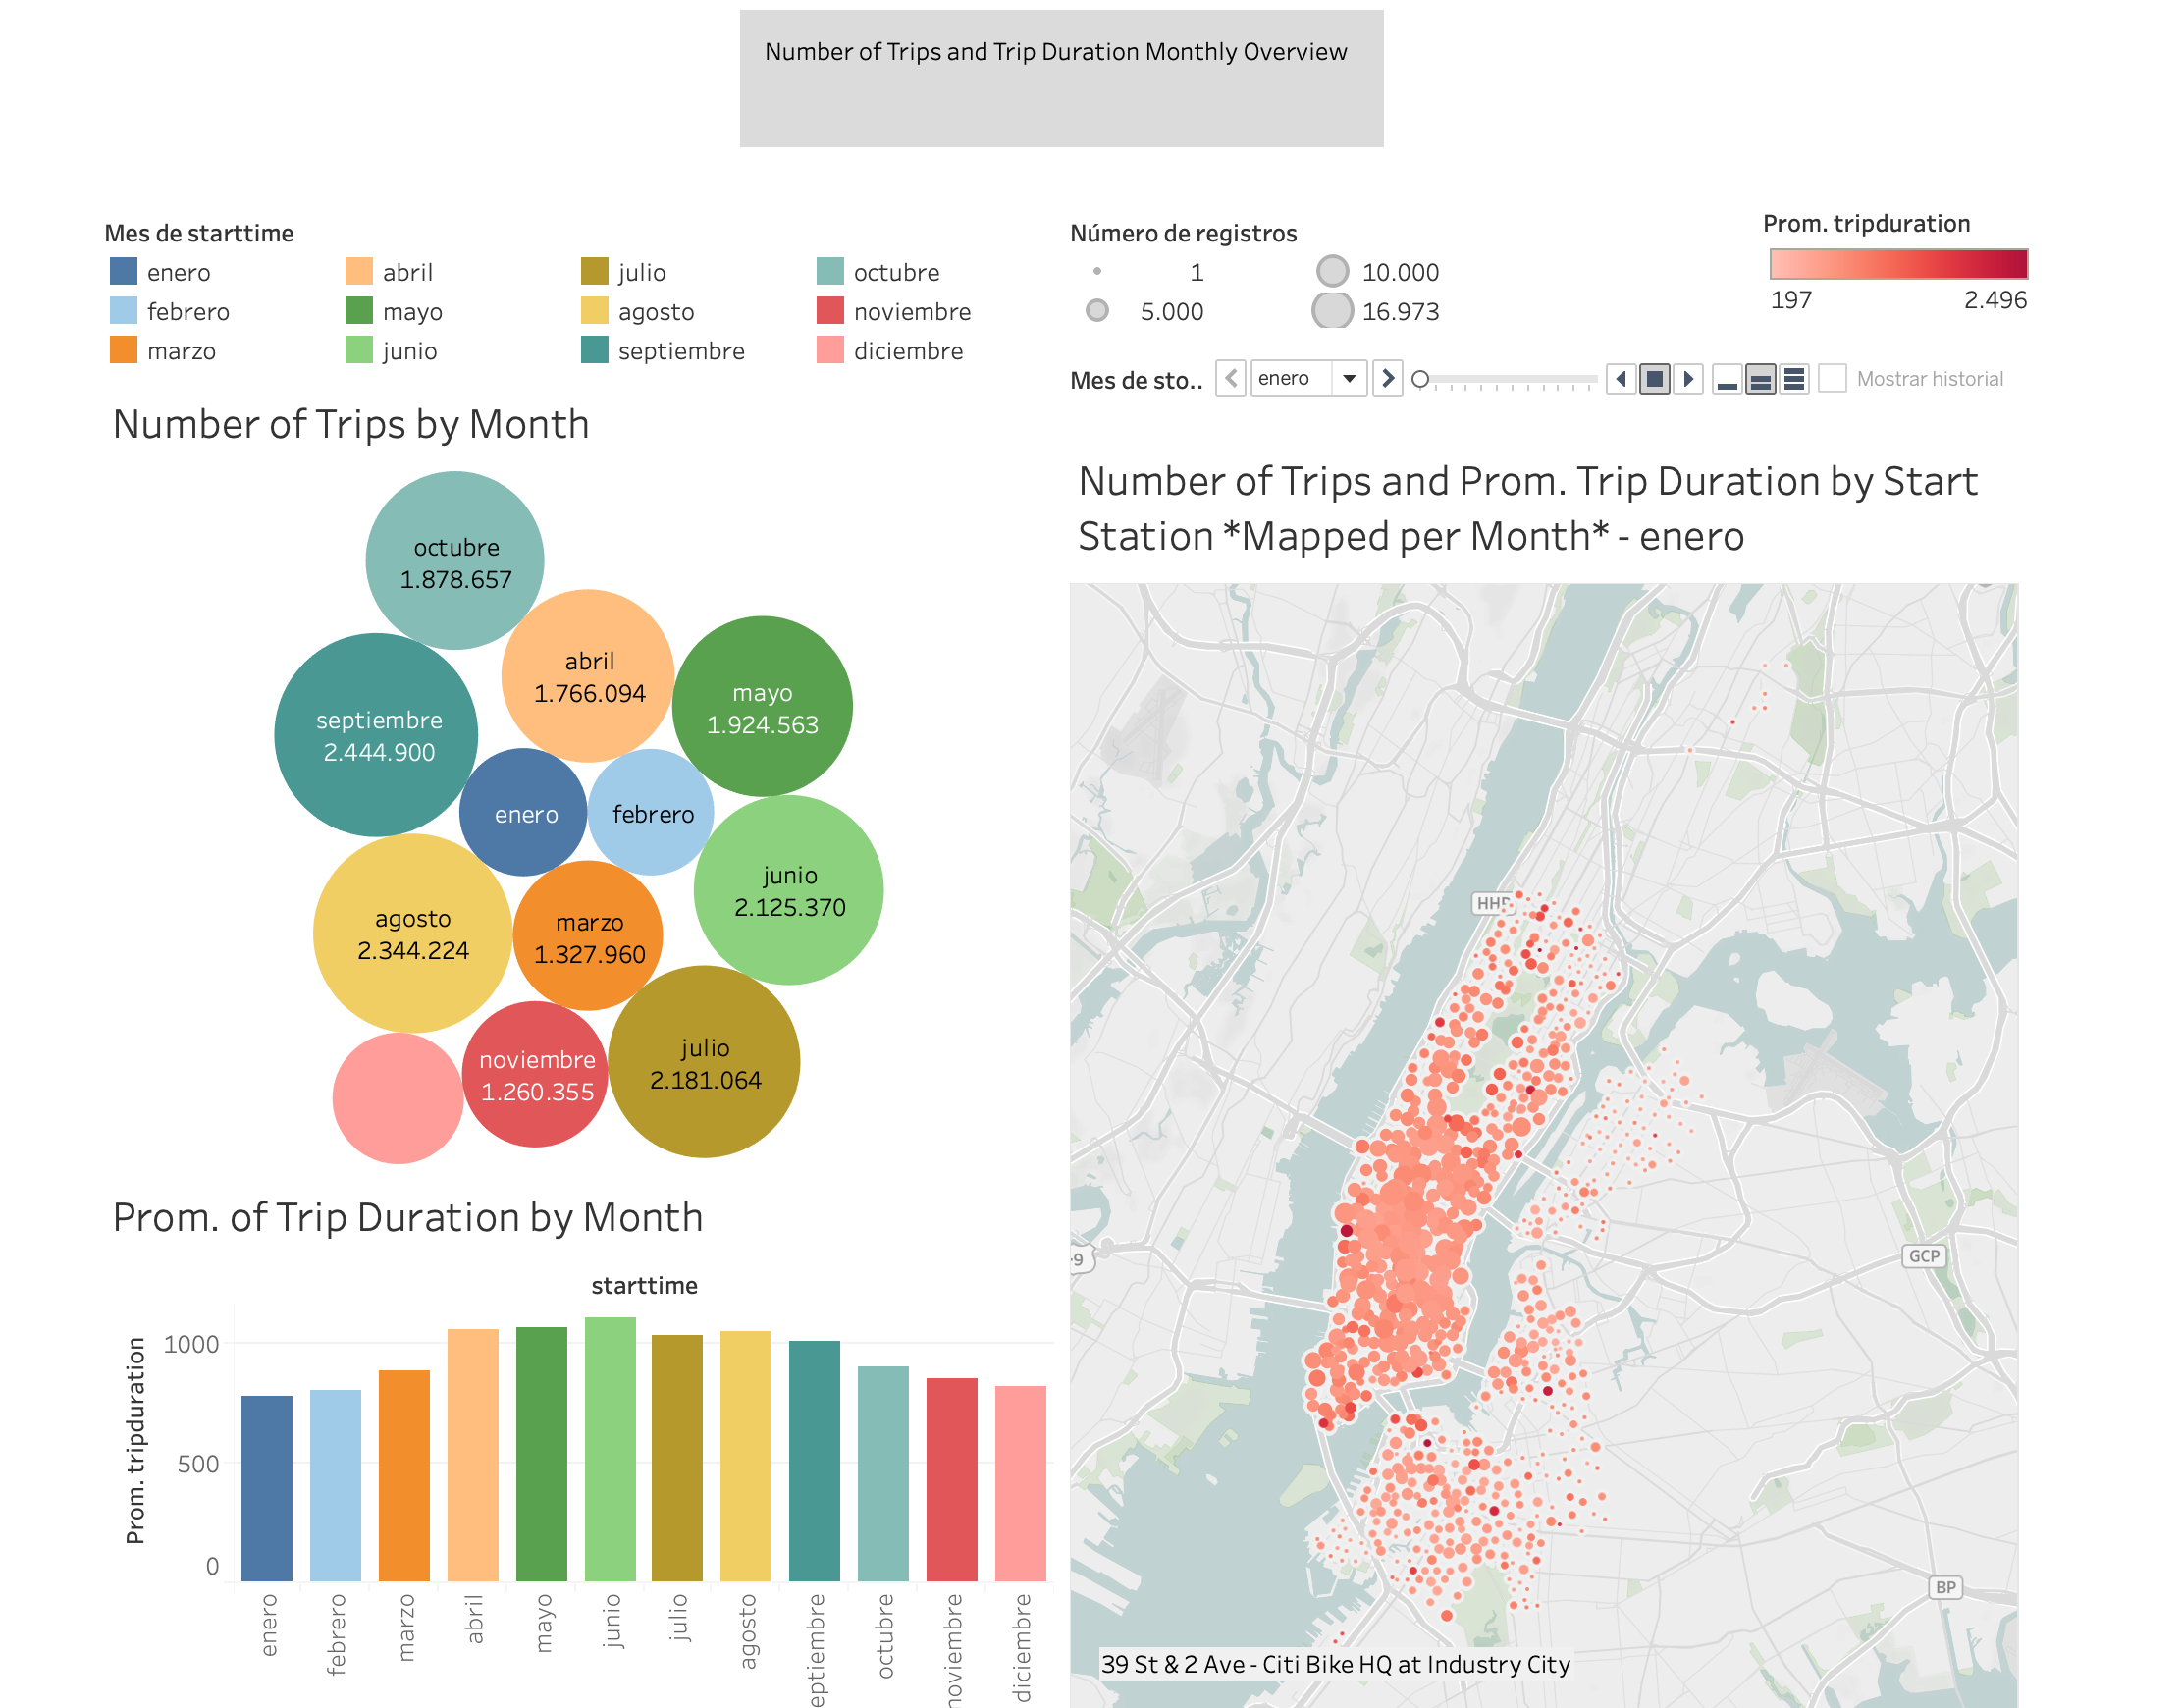

What the dashboard file says about the page in this screenshot:
{"tool":"tableau","page":{"name":"Dashboard 1","canvas":[1000,800],"ordinal":0},"visuals":[{"type":"legend","title":"Number of Trips and Prom. Trip Duration by Start Station *Mapped per Month*","param":"[federated.02ynb720ql91se16pz0m2060kj1e].[avg:tripduration:qk]","box":[857,7,140,115]},{"type":"legend","title":"Number of Trips by Month","param":"[federated.02ynb720ql91se16pz0m2060kj1e].[mn:starttime:ok]","box":[8,8,492,87]},{"type":"legend","title":"Number of Trips and Prom. Trip Duration by Start Station *Mapped per Month*","param":"[federated.02ynb720ql91se16pz0m2060kj1e].[sum:Number of Records:qk]","box":[500,8,492,73]},{"type":"legend","title":"Number of Trips and Prom. Trip Duration by Start Station *Mapped per Month*","box":[630,10,217,118]},{"type":"currpage","title":"Number of Trips and Prom. Trip Duration by Start Station *Mapped per Month*","box":[500,81,492,43]},{"type":"worksheet","title":"Number of Trips by Month","mark":"Circle","box":[8,95,492,404]},{"type":"worksheet","title":"Number of Trips and Prom. Trip Duration by Start Station *Mapped per Month*","mark":"Automatic","rows":["start station latitude"],"cols":["start station longitude"],"box":[500,124,492,668]},{"type":"worksheet","title":"Prom. of Trip Duration by Month","mark":"Bar","rows":["tripduration"],"cols":["starttime"],"box":[8,499,492,293]}]}

Visuals, with their boxes in screenshot pixels (x1, y1, x2, y2), scaled from the page's 1000x800 canvas onto the 2181x1708 screenshot:
"Number of Trips and Prom. Trip Duration by Start Station *Mapped per Month*" legend: left=1869, top=15, right=2174, bottom=260
"Number of Trips by Month" legend: left=18, top=17, right=1090, bottom=203
"Number of Trips and Prom. Trip Duration by Start Station *Mapped per Month*" legend: left=1090, top=17, right=2163, bottom=173
"Number of Trips and Prom. Trip Duration by Start Station *Mapped per Month*" legend: left=1374, top=22, right=1847, bottom=273
"Number of Trips and Prom. Trip Duration by Start Station *Mapped per Month*" currpage: left=1090, top=173, right=2163, bottom=265
"Number of Trips by Month" worksheet (Circle marks): left=18, top=203, right=1090, bottom=1065
"Number of Trips and Prom. Trip Duration by Start Station *Mapped per Month*" worksheet: left=1090, top=265, right=2163, bottom=1691
"Prom. of Trip Duration by Month" worksheet (Bar marks): left=18, top=1065, right=1090, bottom=1691
